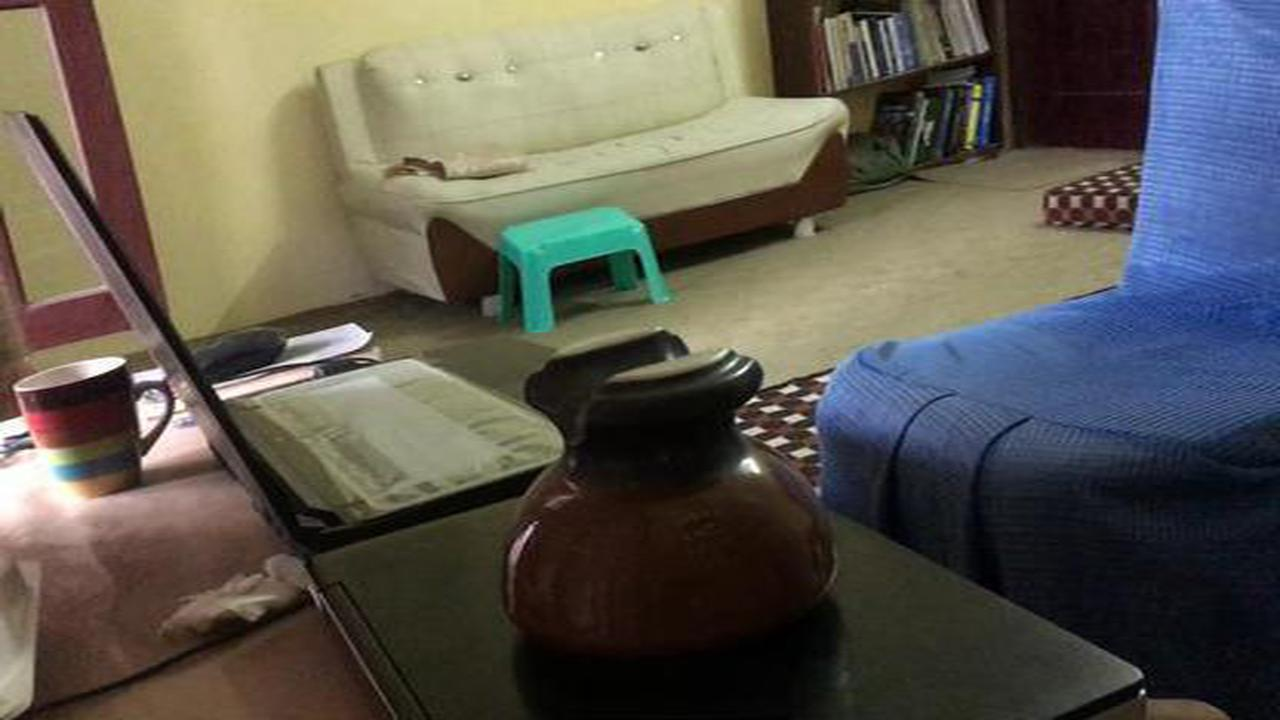insulator_pin: (490, 314, 859, 686)
